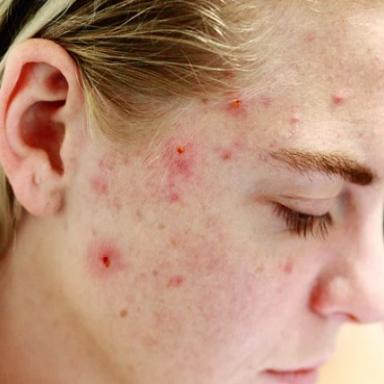acne: (87, 241, 124, 276), (164, 136, 193, 174), (91, 177, 108, 195), (167, 276, 184, 288), (229, 99, 241, 112), (331, 93, 344, 105), (221, 149, 232, 160), (284, 262, 293, 274), (169, 193, 179, 202)
